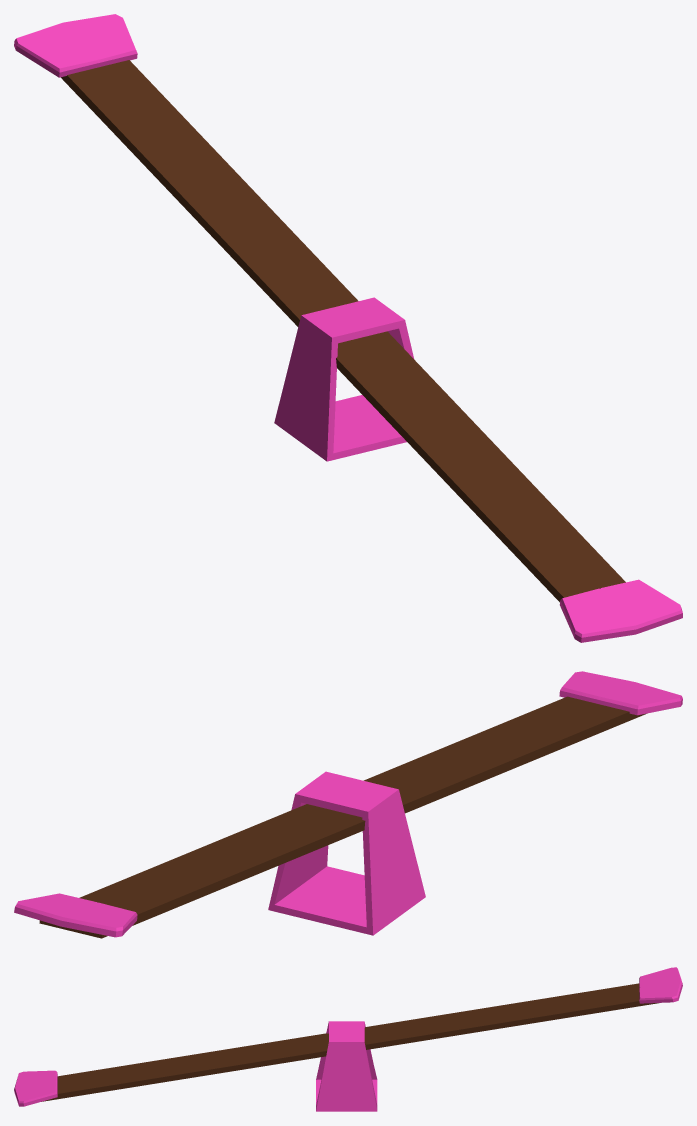
Rendered from MOD_BalancoirBV2.FBX.
3 views of the same model, one above another, from view 1: azimuth 30°, elevation 25°; view 2: azimuth 150°, elevation 25°; view 3: azimuth 270°, elevation 25° (orthographic). The views are drawn at different scales.
Visible parts, largest first — view 1: Box002; view 2: Box002; view 3: Box002.
Part boxes in pixels (x1,y1,x2,y2): Box002: (14, 14, 682, 642); Box002: (14, 671, 682, 938); Box002: (14, 967, 682, 1111).
Size of the model in its own units: 0.4792 by 0.8306 by 4.39.
